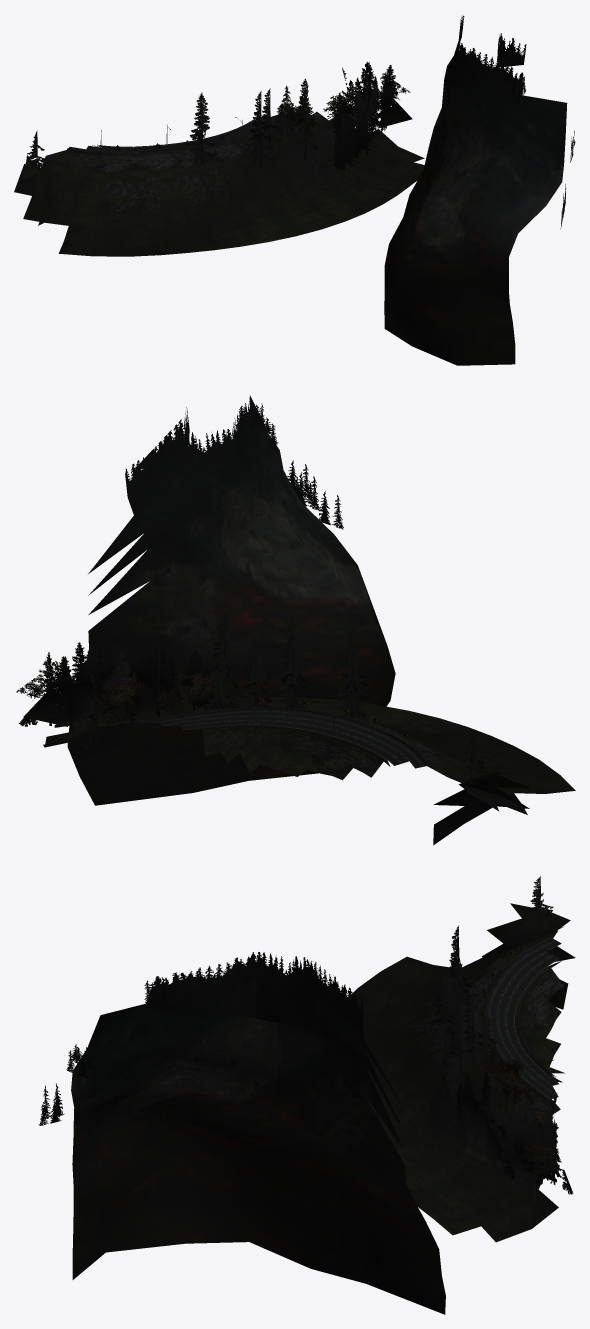
Rendered from cell_2_-7.gltf.
3 views of the same model, one above another, from view 1: azimuth 30°, elevation 25°; view 2: azimuth 150°, elevation 25°; view 3: azimuth 270°, elevation 25° (orthographic). The views are drawn at different scales.
Visible parts, largest first — view 1: cell_2_-7; view 2: cell_2_-7; view 3: cell_2_-7.
Boxes of the visible parts, <box> form: cell_2_-7: <box>14,15,575,365</box>; cell_2_-7: <box>16,395,575,845</box>; cell_2_-7: <box>39,876,575,1314</box>.
Bounding box in the file's own units: 280 × 178 × 261.
29 materials, 29 textured.
